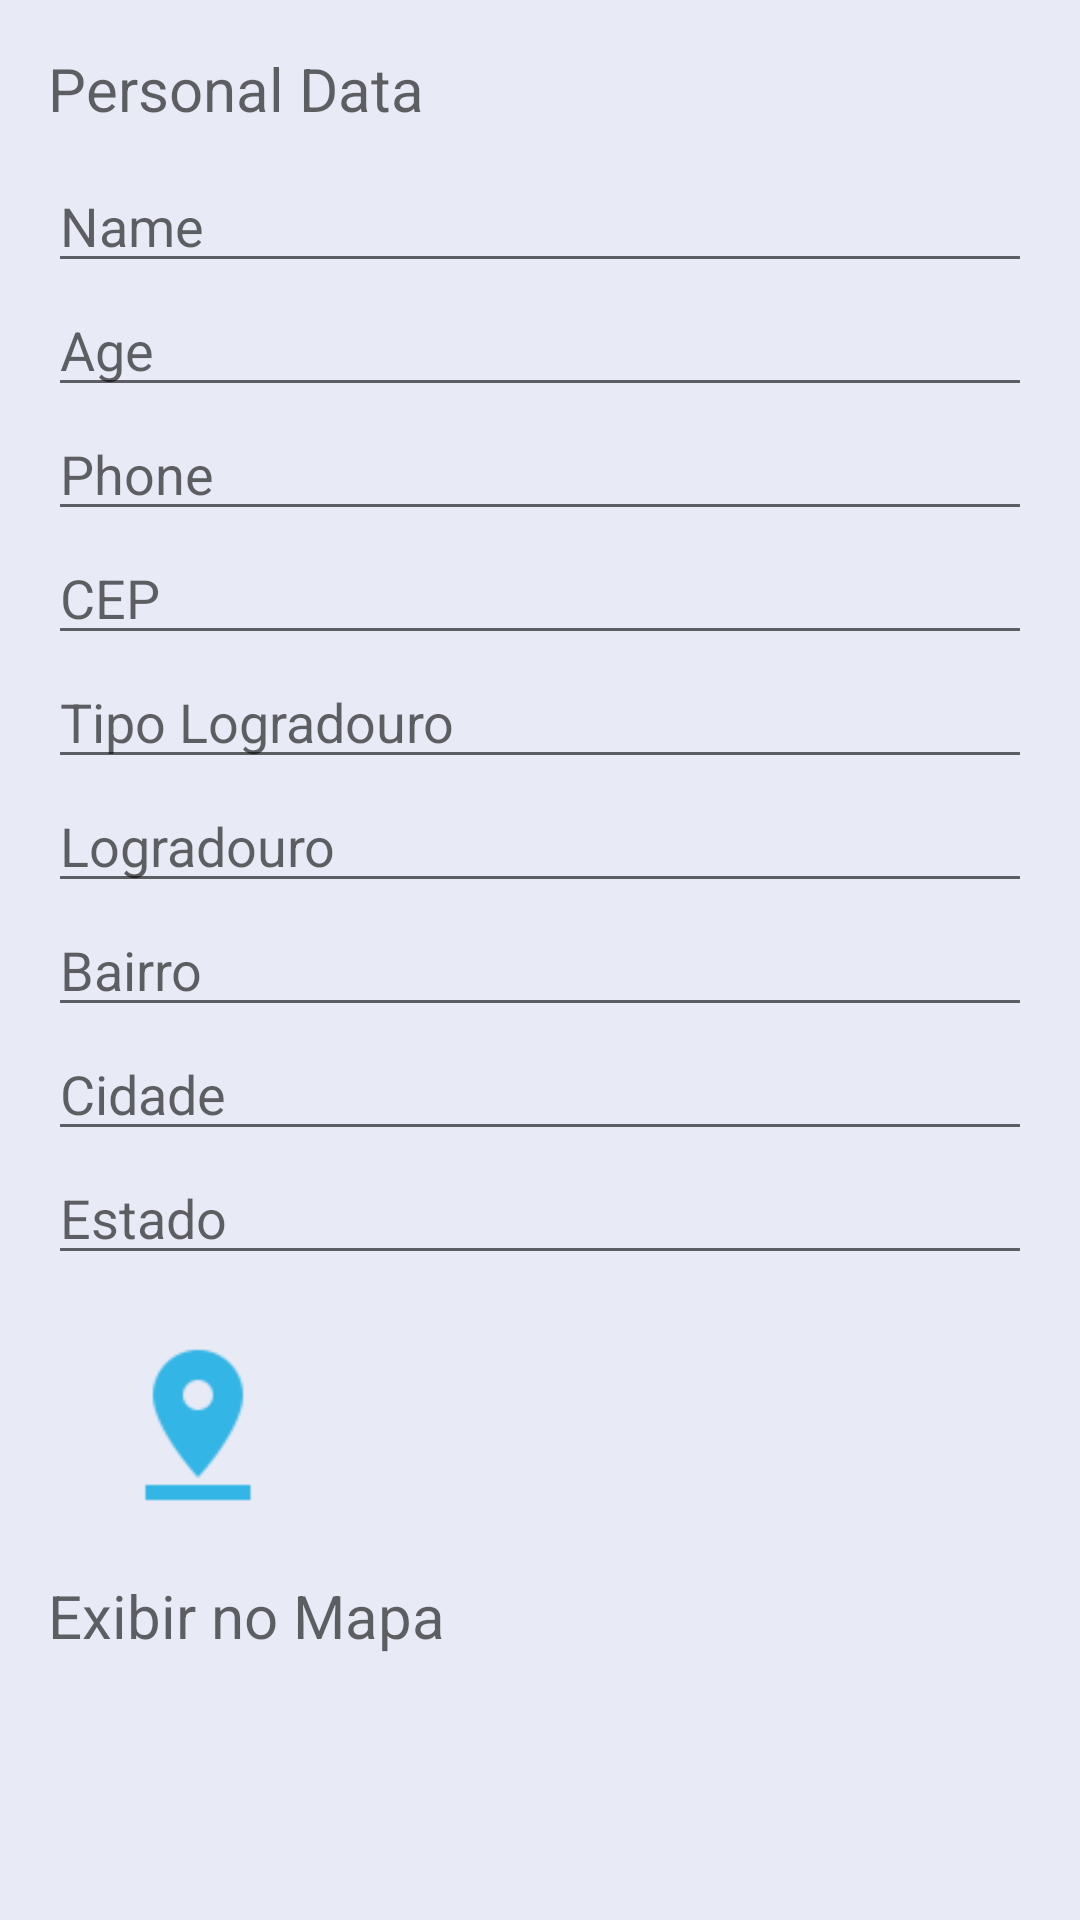

Icon click points for this 1080×1920 phone screenshot, format point (x, y):
maps pin drop: point (198, 1425)
